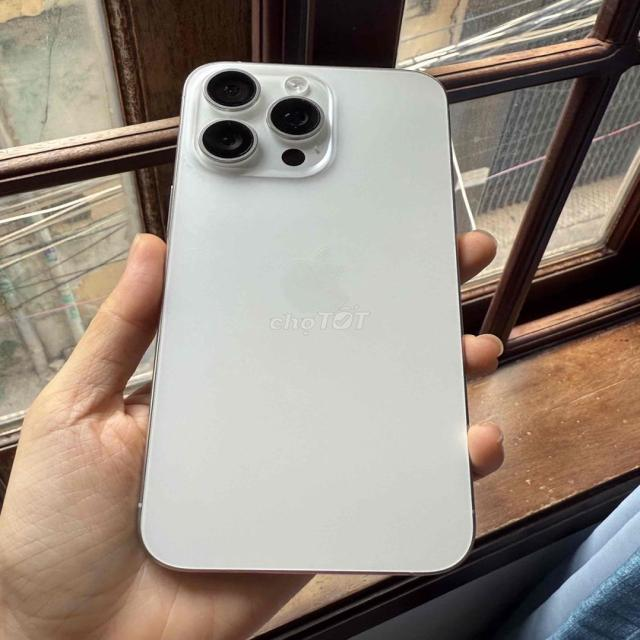gen_15: (131, 48, 481, 602)
